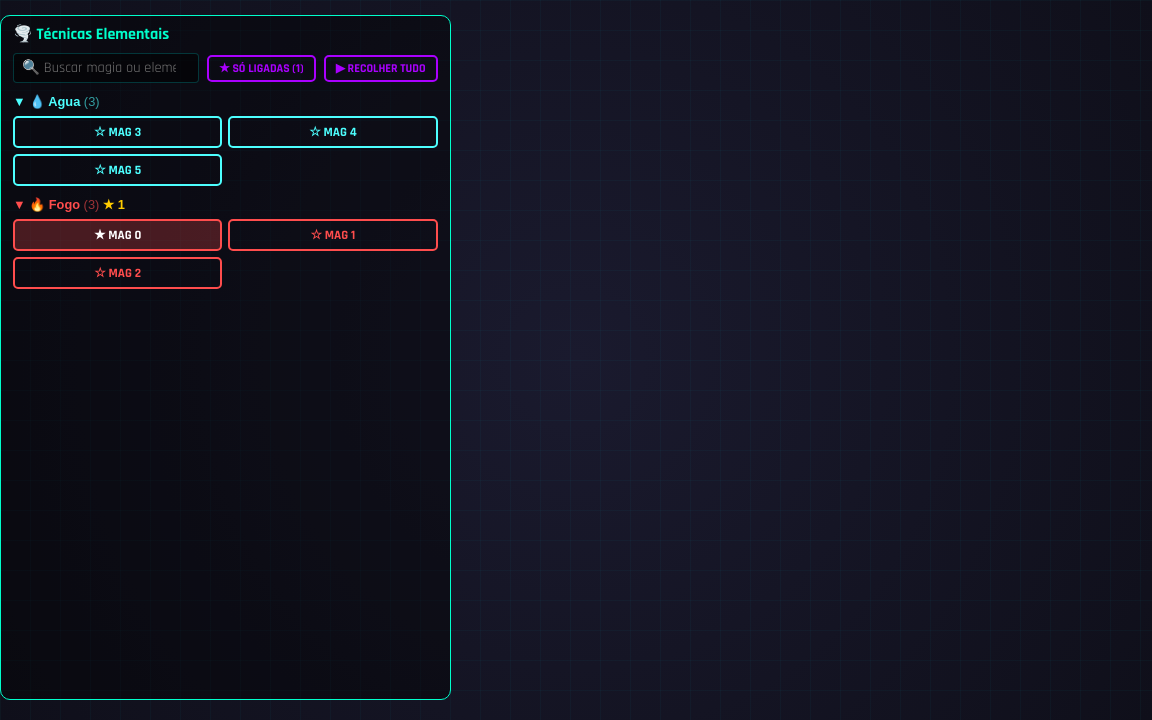
Test: MapaMagiasElementais - "★ Só ligadas (n)" › as memorizadas continuam dentro dos seus elementos e o grupo sem memorizadas some
The width and height of the screenshot is (1152, 720).
What coordinates should you click on to do the following:
click the button "★ Só ligadas (1)"
I would click on:
 (261, 68)
Its box is x1=207 y1=54 x2=316 y2=82.
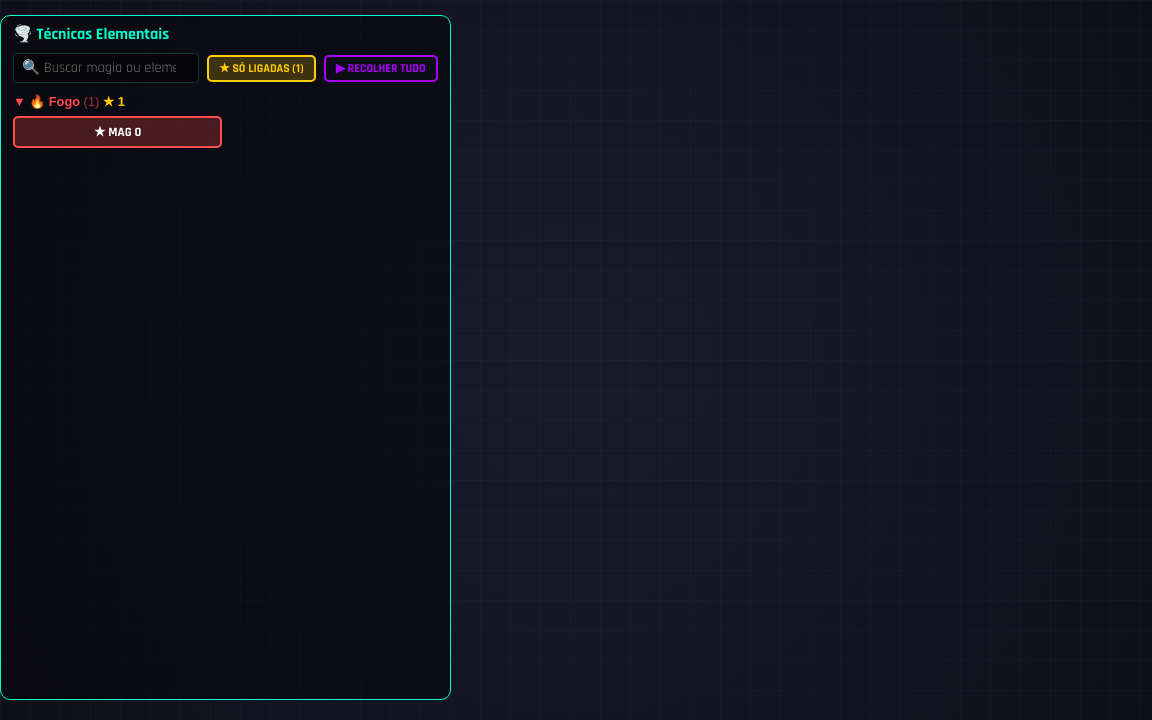
expect the button with class "mapa-tecnicas-pasta-topo" is shown: met, box x1=13 y1=92 x2=125 y2=111
expect the number of buttons with class "mapa-tecnica-chip" is 1: met, box x1=13 y1=116 x2=222 y2=148
